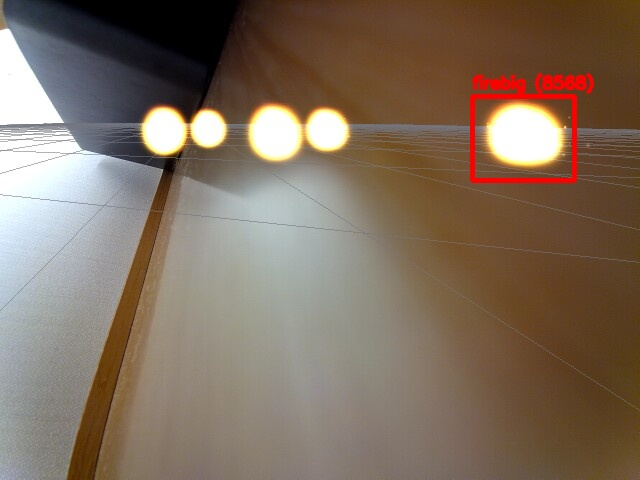firebig: (472, 96, 574, 180)
